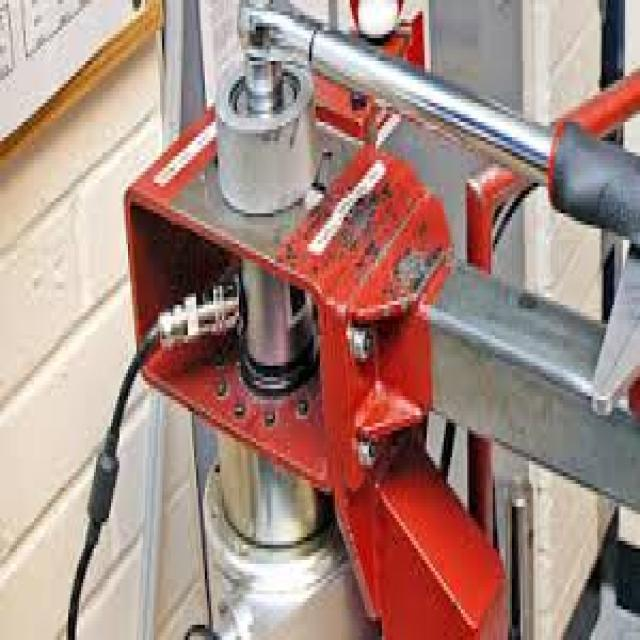wrench: (232, 0, 640, 230)
